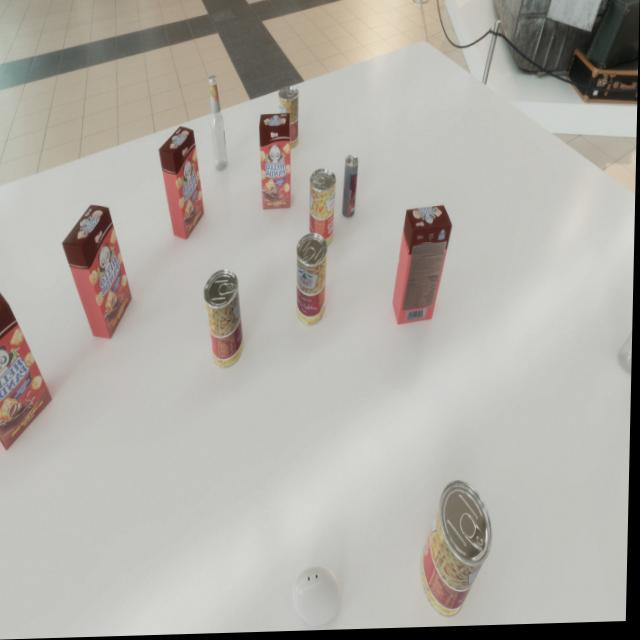Bottle: (208, 76, 230, 172)
HelloPanda: (61, 205, 135, 341), (394, 208, 454, 327), (158, 127, 207, 242), (258, 115, 293, 211)
Potato_sticks: (422, 482, 496, 621), (204, 270, 247, 370), (296, 234, 329, 328), (309, 170, 337, 251), (278, 88, 300, 152)
Rita_zero_sugar: (343, 157, 359, 220)
Salt: (295, 567, 344, 629)
